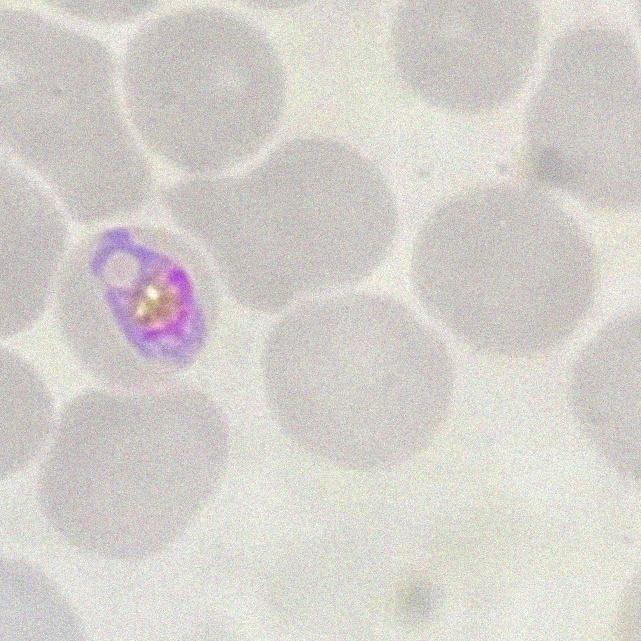Infected: (56, 224, 220, 384)
Uninfected: (170, 138, 399, 308), (0, 2, 154, 223), (266, 293, 453, 474), (41, 386, 231, 561), (416, 186, 597, 359), (120, 6, 286, 170), (520, 28, 641, 218), (392, 0, 541, 112)
